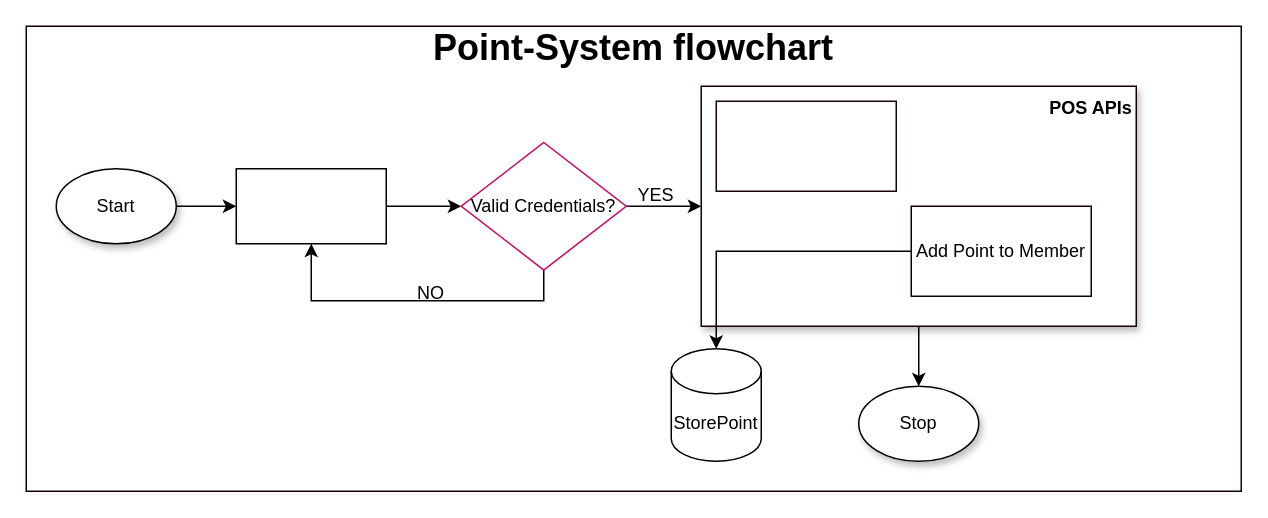
Image size: 1268x518. Some labels were removed from this diagram. Here are the shapes that lost their labels. From the top down, the centre of each, then its label:
At [805,145]: "Calculate Point Based On ItemType".
At [310,205]: "Login".
